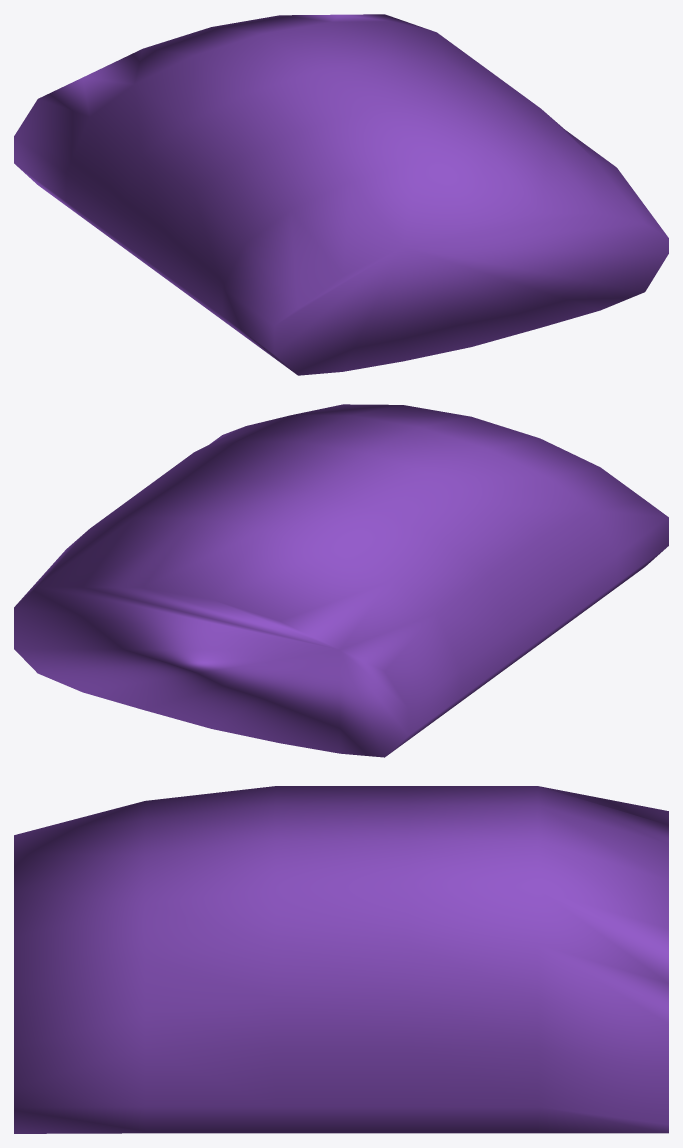
The model's file is Pillow.fbx.
3 views of the same model, one above another, from view 1: azimuth 30°, elevation 25°; view 2: azimuth 150°, elevation 25°; view 3: azimuth 270°, elevation 25° (orthographic). The views are drawn at different scales.
Parts seen in each view (by area): view 1: Pillow:ew; view 2: Pillow:ew; view 3: Pillow:ew.
Part boxes in pixels (x1=…): Pillow:ew: x1=14, y1=14, x2=668, y2=375; Pillow:ew: x1=14, y1=404, x2=668, y2=757; Pillow:ew: x1=14, y1=786, x2=668, y2=1133.
Size of the model in its own units: 27.56 by 10.72 by 31.49.
